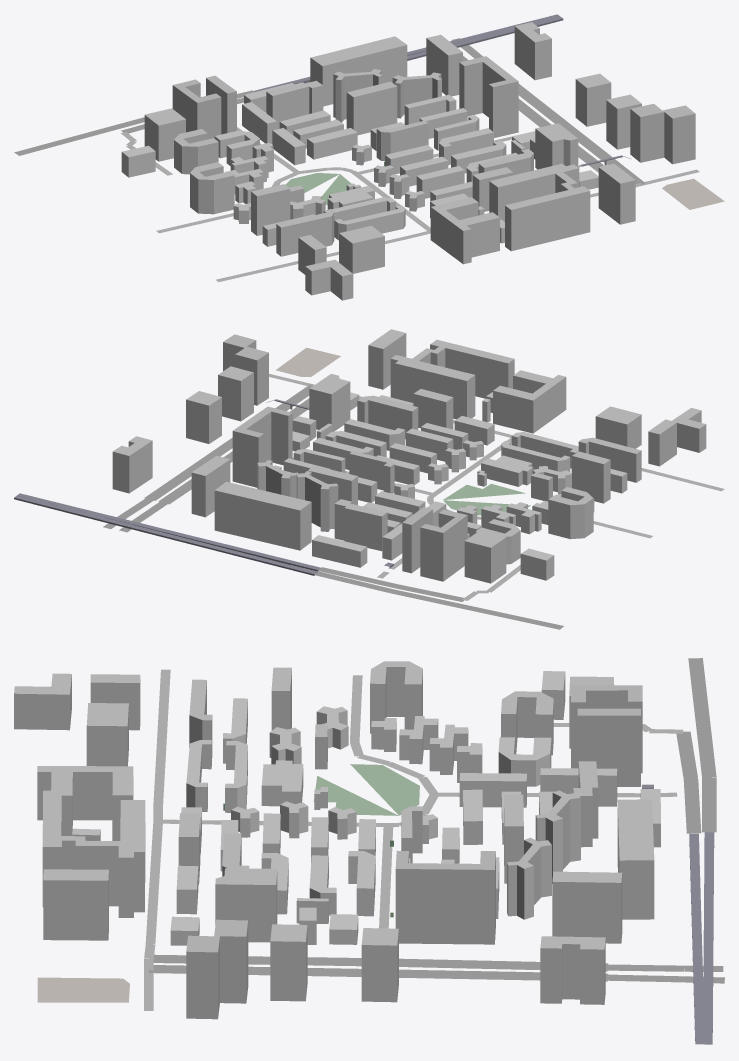
3 views of the same model, one above another, from view 1: azimuth 30°, elevation 25°; view 2: azimuth 150°, elevation 25°; view 3: azimuth 270°, elevation 25° (orthographic). The views are drawn at different scales.
Bounding box in the file's own units: 664 × 61.42 × 512.
